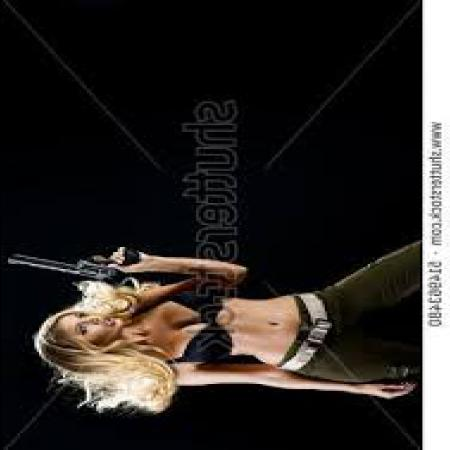Pistol: (2, 237, 138, 279)
